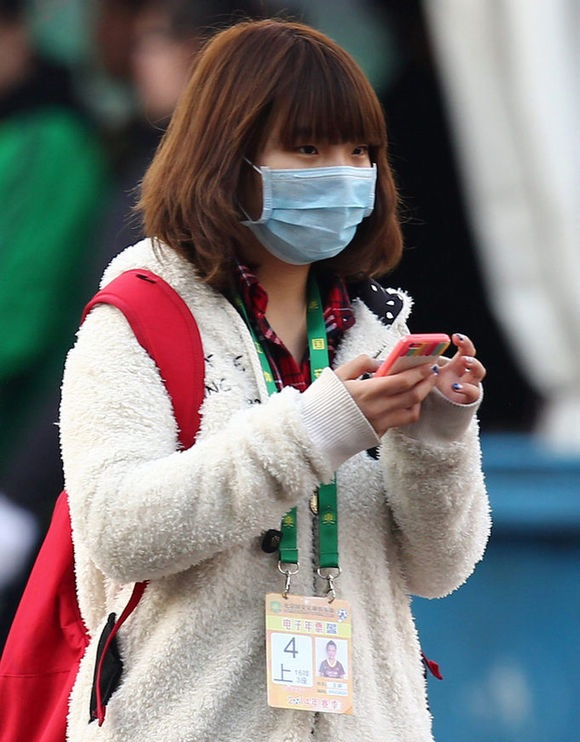face_mask: (260, 97, 374, 260)
